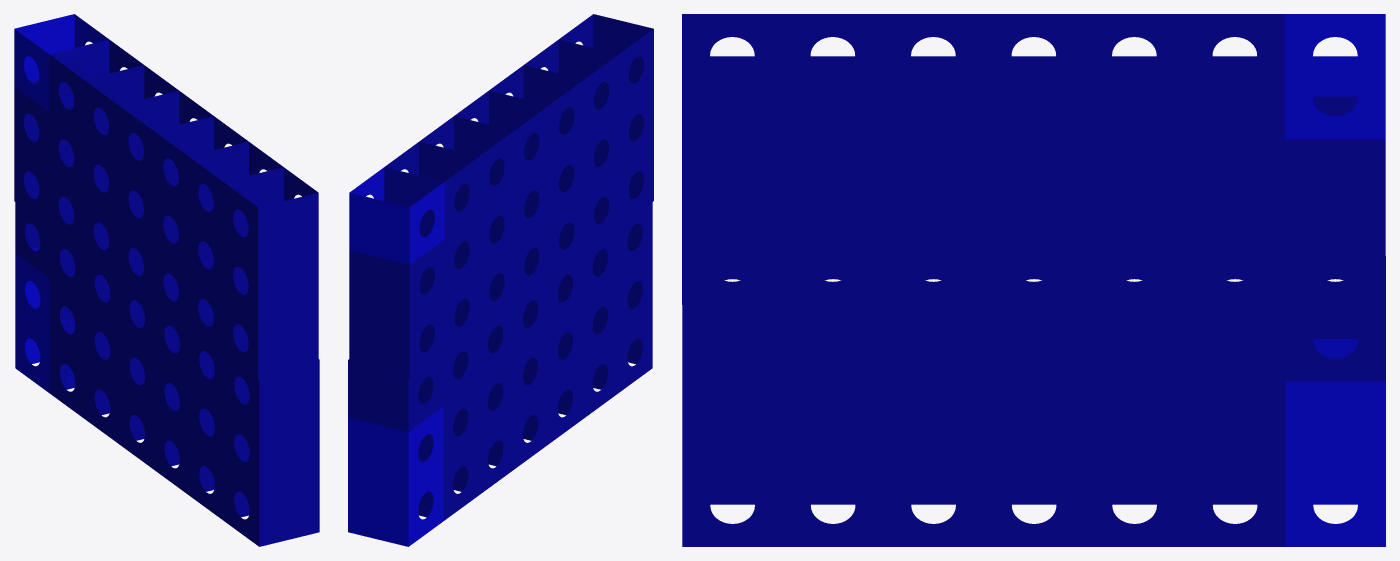
3 views of the same model, side by side, from view 1: azimuth 30°, elevation 25°; view 2: azimuth 150°, elevation 25°; view 3: azimuth 270°, elevation 25° (orthographic). The views are drawn at different scales.
Parts seen in each view (by area): view 1: Cube.010; view 2: Cube.010; view 3: Cube.010.
Boxes of the visible parts, box(x1,y1,x2,y2) form: Cube.010: box(14, 14, 319, 546); Cube.010: box(348, 14, 653, 546); Cube.010: box(682, 14, 1385, 546).
Size of the model in its own units: 0.1009 by 0.6933 by 0.5323.
